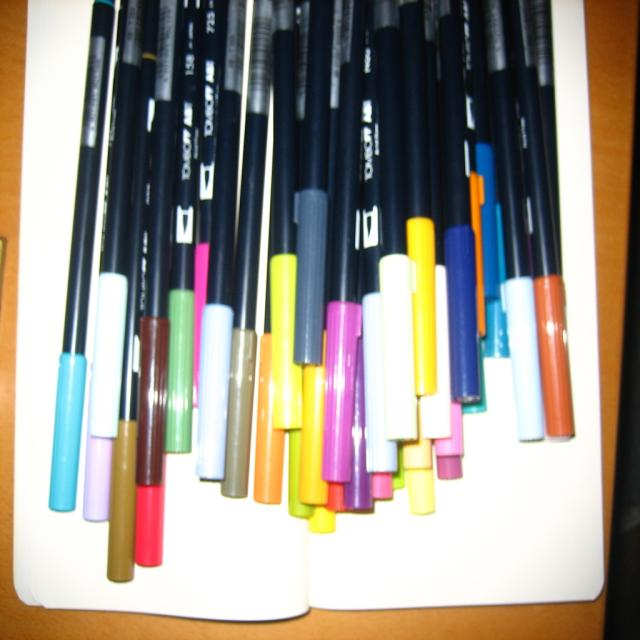pen: (43, 0, 576, 585)
